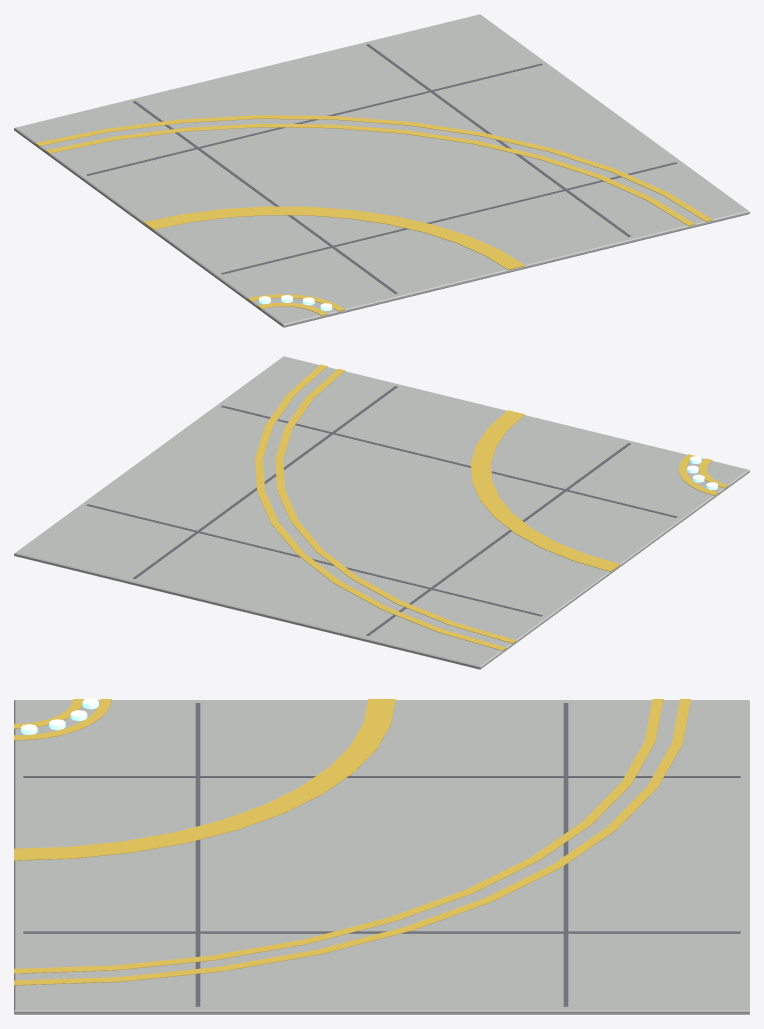
Rendered from airport-terminal-and-ground-operations-taxiway-tile-cu-63416b4a__26078.glb.
The picture shows the model from 3 angles, top to bottom: view 1: azimuth 30°, elevation 25°; view 2: azimuth 150°, elevation 25°; view 3: azimuth 270°, elevation 25°; orthographic projection. The views are drawn at different scales.
Visible parts, largest first — view 1: taxiway-tile-curve; view 2: taxiway-tile-curve; view 3: taxiway-tile-curve.
Part boxes in pixels (box(x1,y1,x2,y2)): taxiway-tile-curve: box(14, 14, 749, 327); taxiway-tile-curve: box(14, 356, 749, 669); taxiway-tile-curve: box(14, 698, 749, 1014).
Size of the model in its own units: 8 by 0.1098 by 8.
